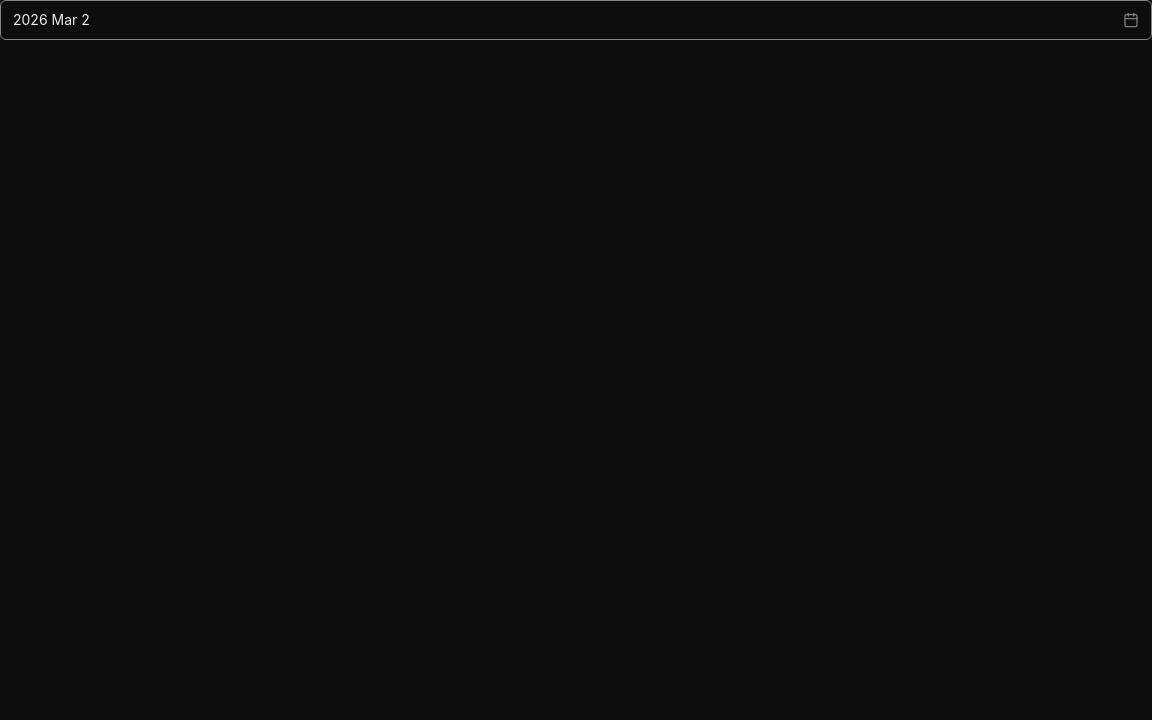
Test: DatePickerField › commits once, closes, and restores trigger focus when Space confirms a date
Later steps or results of the test are not shown.
Click the button "2026 Mar 2".
click(51, 20)  # box [0,0,1151,40]
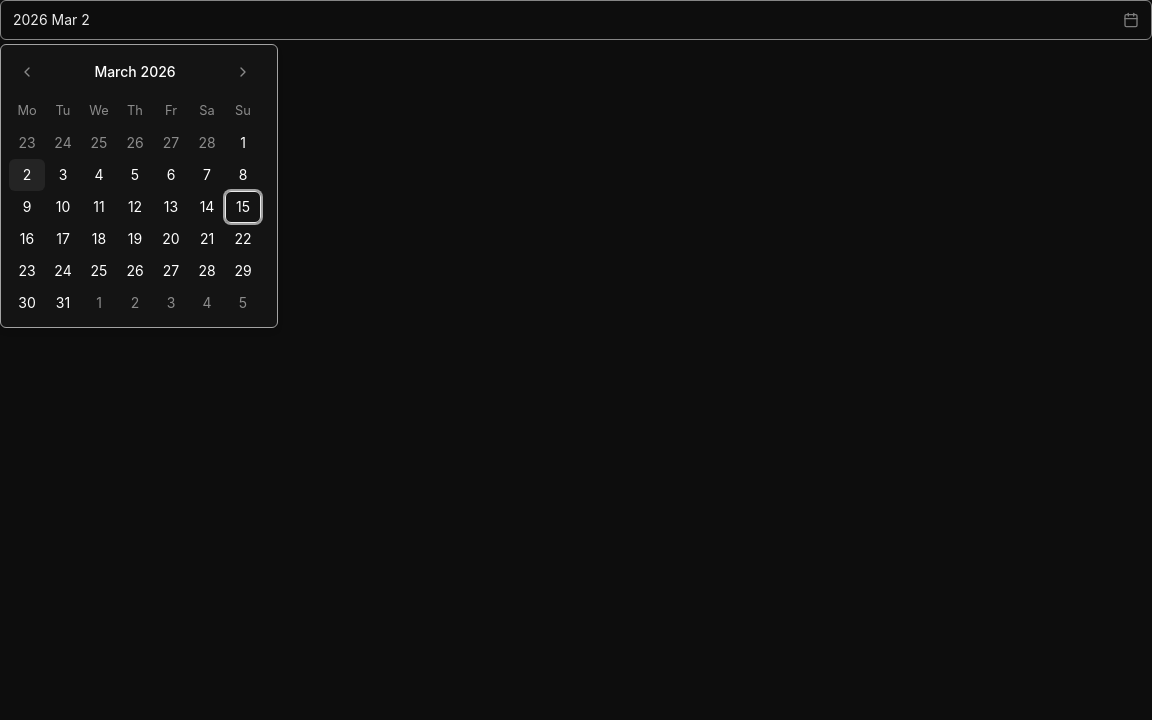
expect the cell named "day" is shown: met, box [225,191,261,223]
